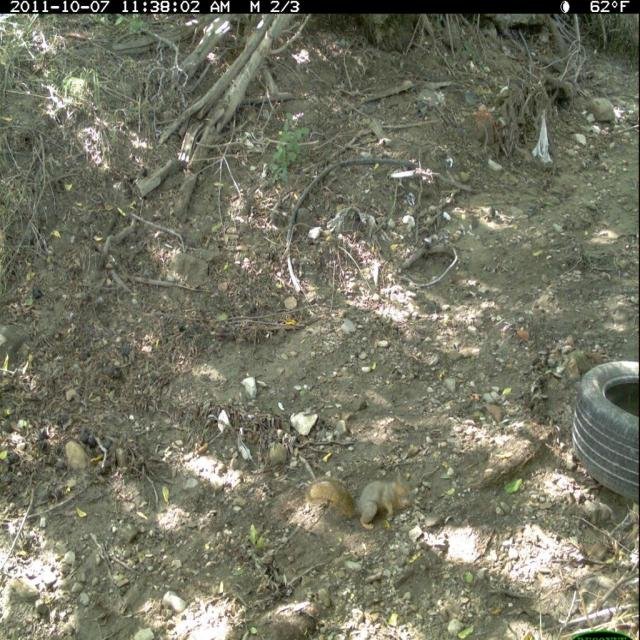squirrel: (305, 466, 415, 535)
